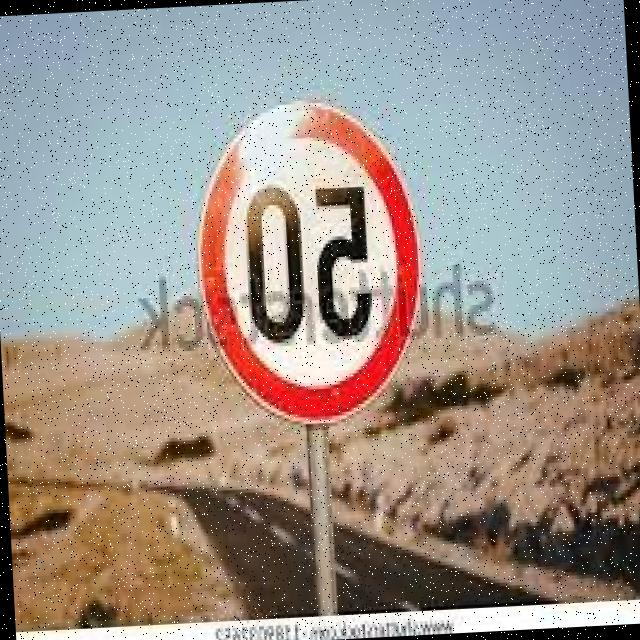speed_limit_50: (187, 85, 442, 432)
